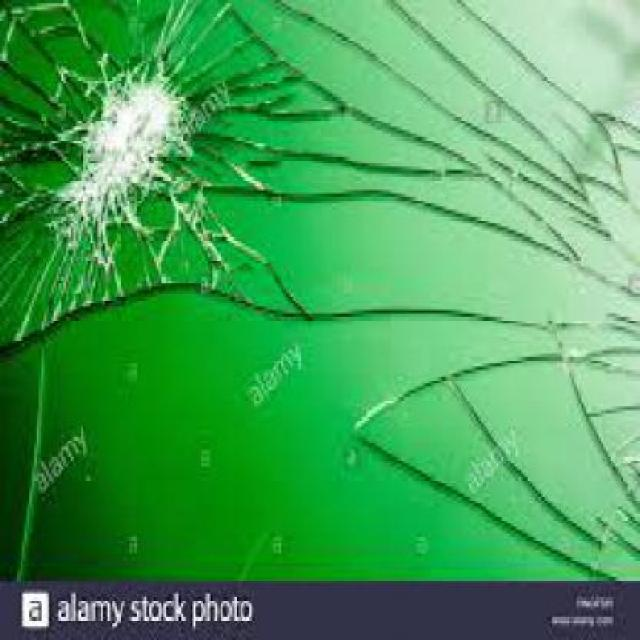kaca: (0, 0, 638, 574), (128, 31, 572, 254), (361, 363, 637, 571), (450, 357, 638, 543), (58, 40, 215, 249), (62, 0, 340, 114), (100, 168, 308, 308), (0, 186, 137, 343), (0, 0, 94, 202), (563, 337, 639, 506)
